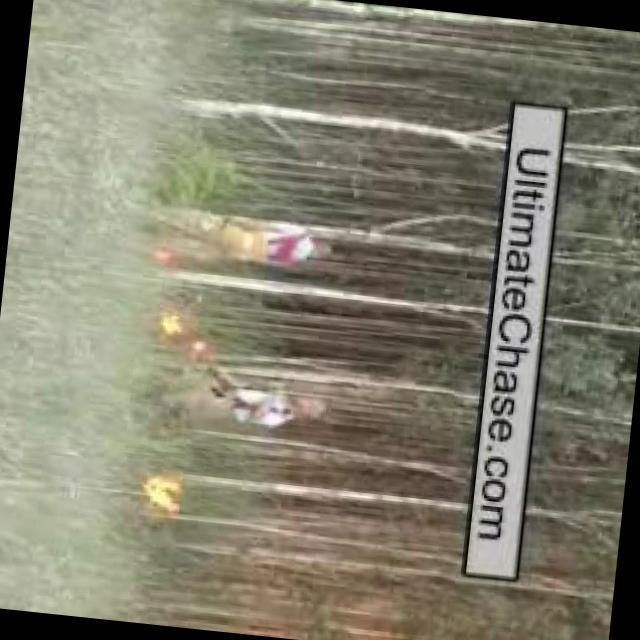Fire: (156, 310, 215, 361), (137, 470, 184, 520), (150, 246, 181, 271)
